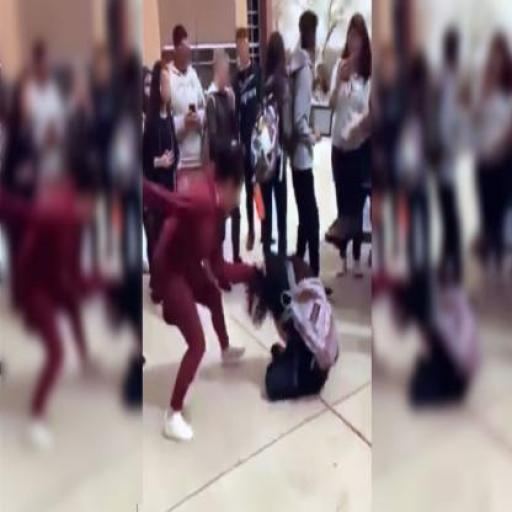Fighting: (144, 2, 372, 512)
